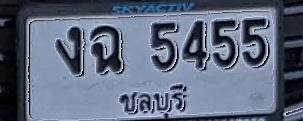4: (183, 20, 207, 70)
5: (151, 22, 177, 70), (242, 18, 268, 66), (212, 20, 237, 68)
A07: (56, 26, 82, 75)
A09: (91, 25, 124, 74)
CBI: (110, 82, 193, 119)
